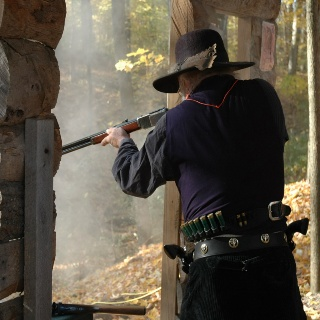rifle: (61, 107, 169, 155)
